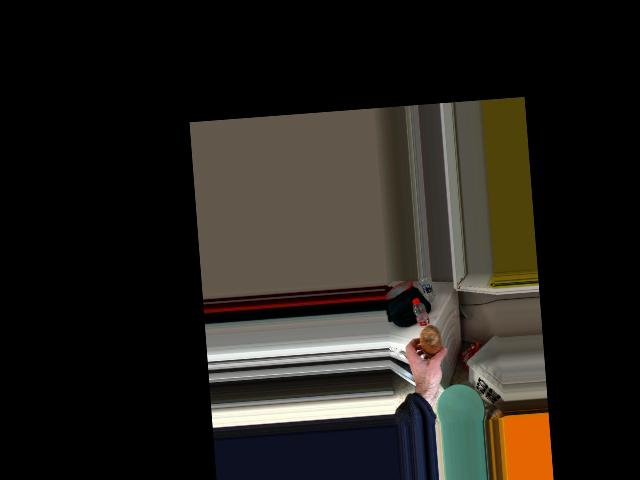sweet_potato: (413, 325, 445, 363)
